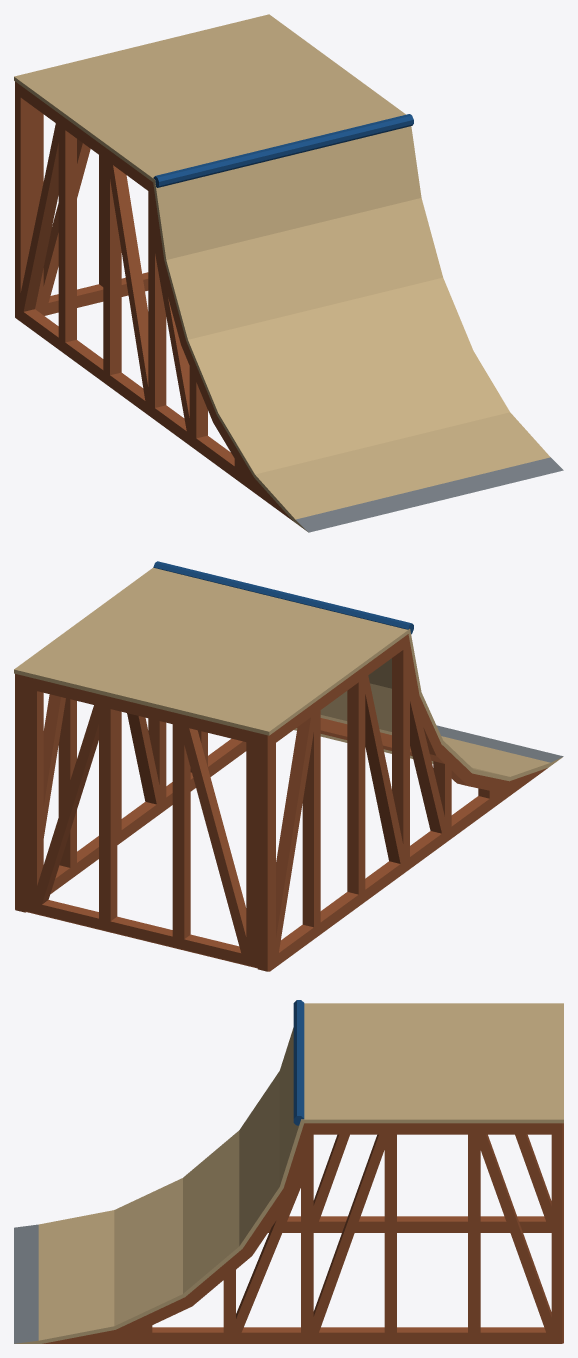
File: plywood-ramp-module-449005.glb
The picture shows the model from 3 angles, top to bottom: view 1: azimuth 30°, elevation 25°; view 2: azimuth 150°, elevation 25°; view 3: azimuth 270°, elevation 25°; orthographic projection. The views are drawn at different scales.
Parts seen in each view (by area): view 1: ramp; view 2: ramp; view 3: ramp.
Part boxes in pixels (x1,y1,x2,y2): ramp: (14,14,563,532); ramp: (14,561,563,971); ramp: (14,1000,563,1343).
Size of the model in its own units: 2 by 1.83 by 4.
